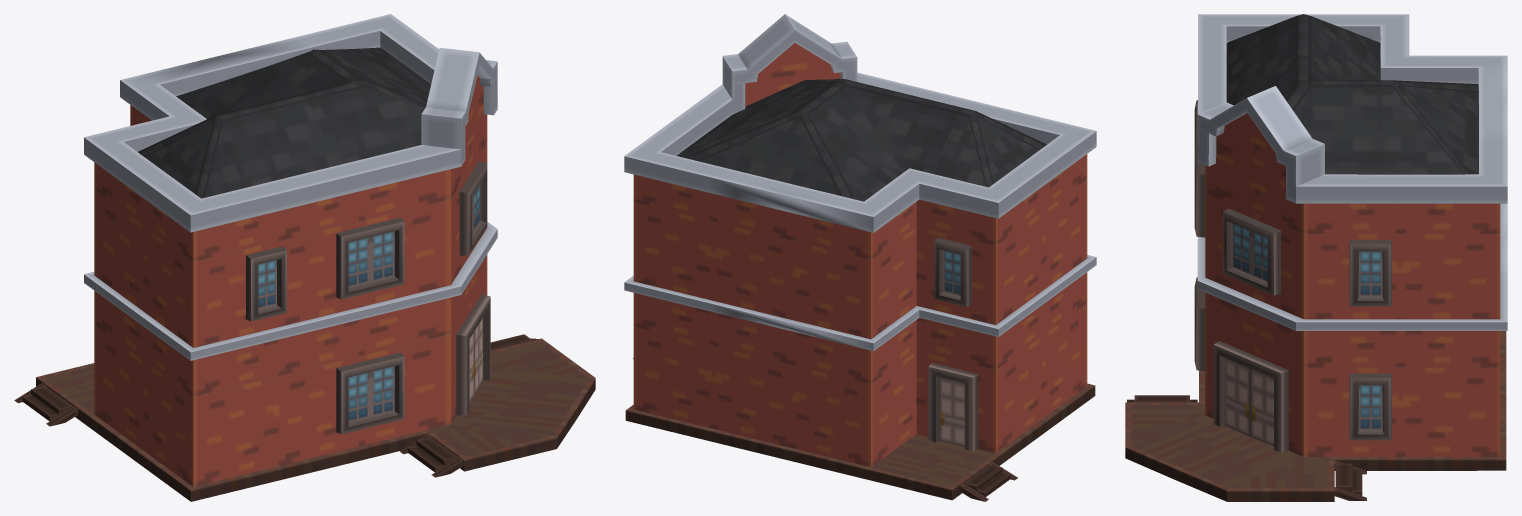
File: house_v2_006.fbx
3 renders of one model, left to right at view 1: azimuth 30°, elevation 25°; view 2: azimuth 150°, elevation 25°; view 3: azimuth 270°, elevation 25°, orthographic. The views are drawn at different scales.
Parts seen in each view (by area): view 1: house_v2_006; view 2: house_v2_006; view 3: house_v2_006.
Boxes of the visible parts, left/top/right/bottom form: house_v2_006: left=14, top=14, right=595, bottom=501; house_v2_006: left=624, top=14, right=1096, bottom=501; house_v2_006: left=1125, top=14, right=1507, bottom=501.
Bounding box in the file's own units: 1043 × 792 × 778.
